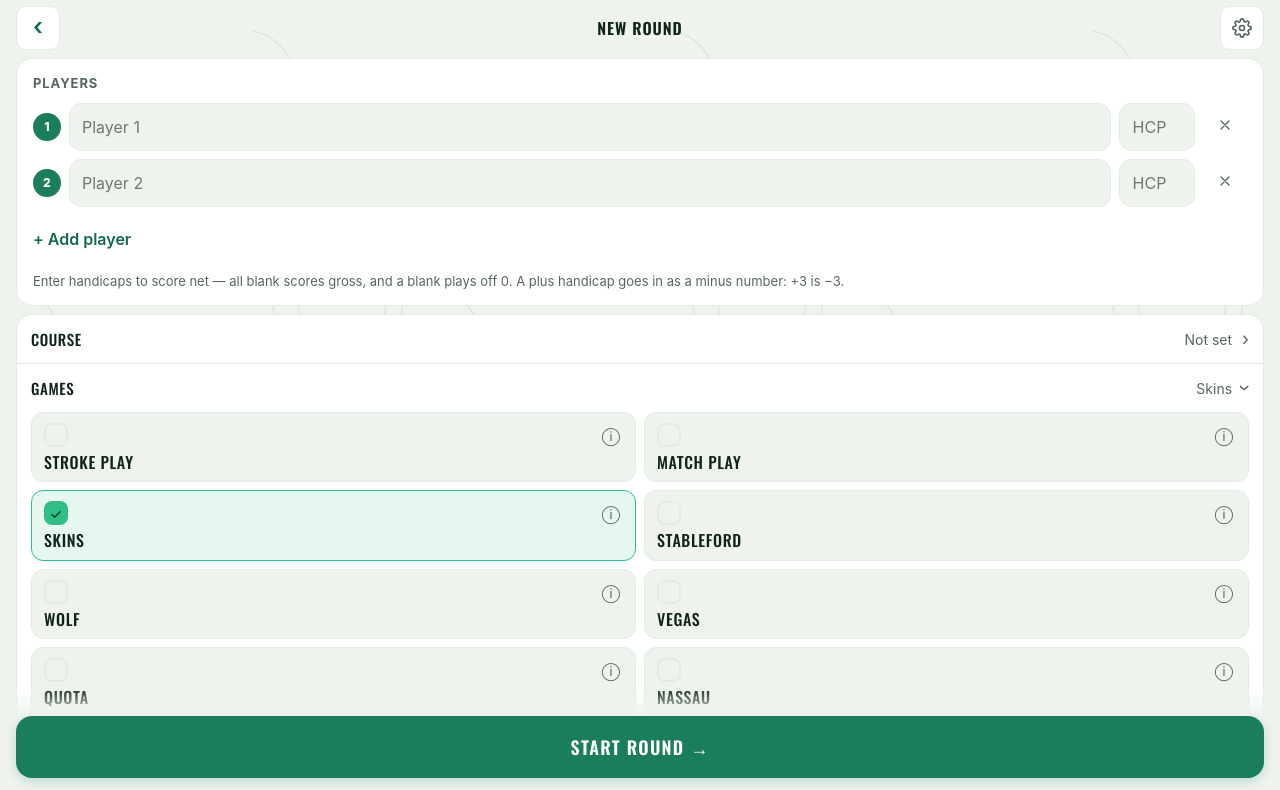
Test: a scorecard loaded from course search › opens the holes row rather than filling it in out of sight
Click the button with class "setup-row-head" showing "Course Not set ›" at (56, 339), box x1=17 y1=315 x2=1263 y2=363
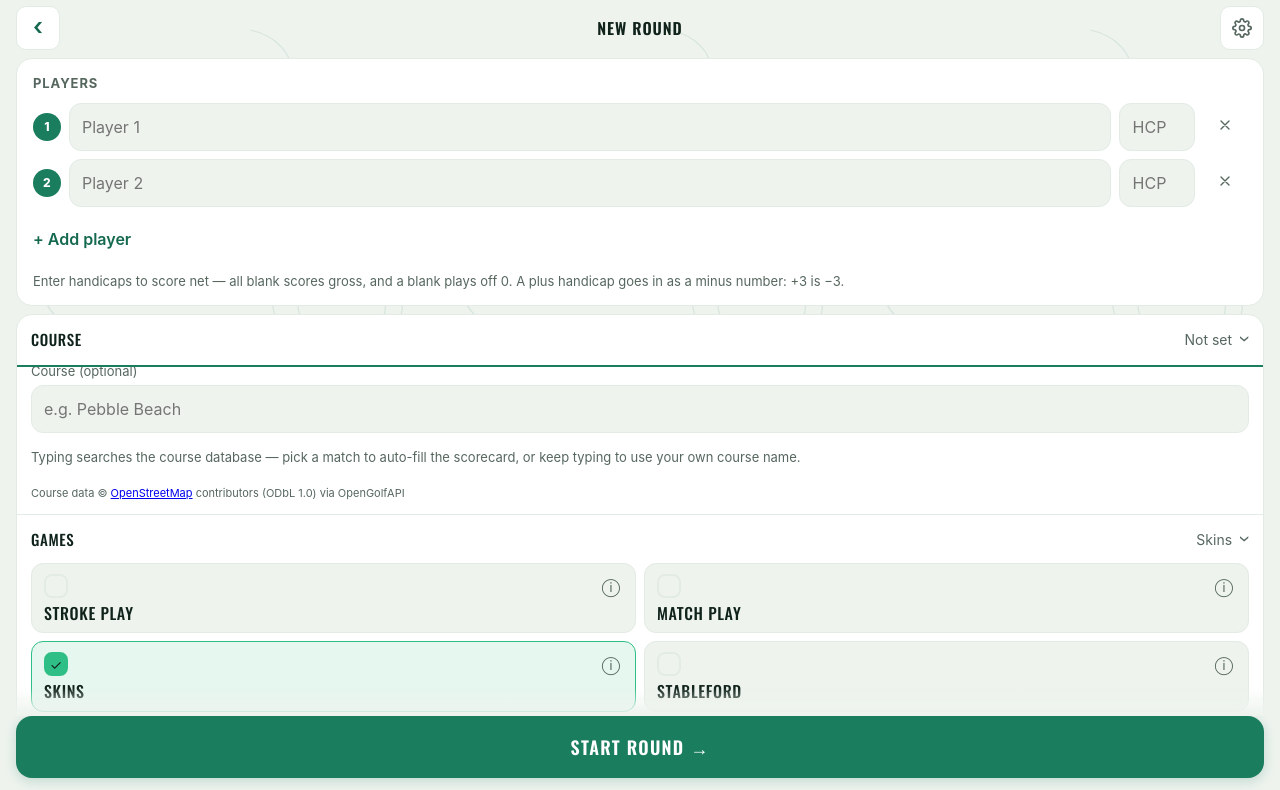
Type "Bramble" into the field labelled "Course (optional)" at (640, 409), box x1=31 y1=385 x2=1249 y2=433
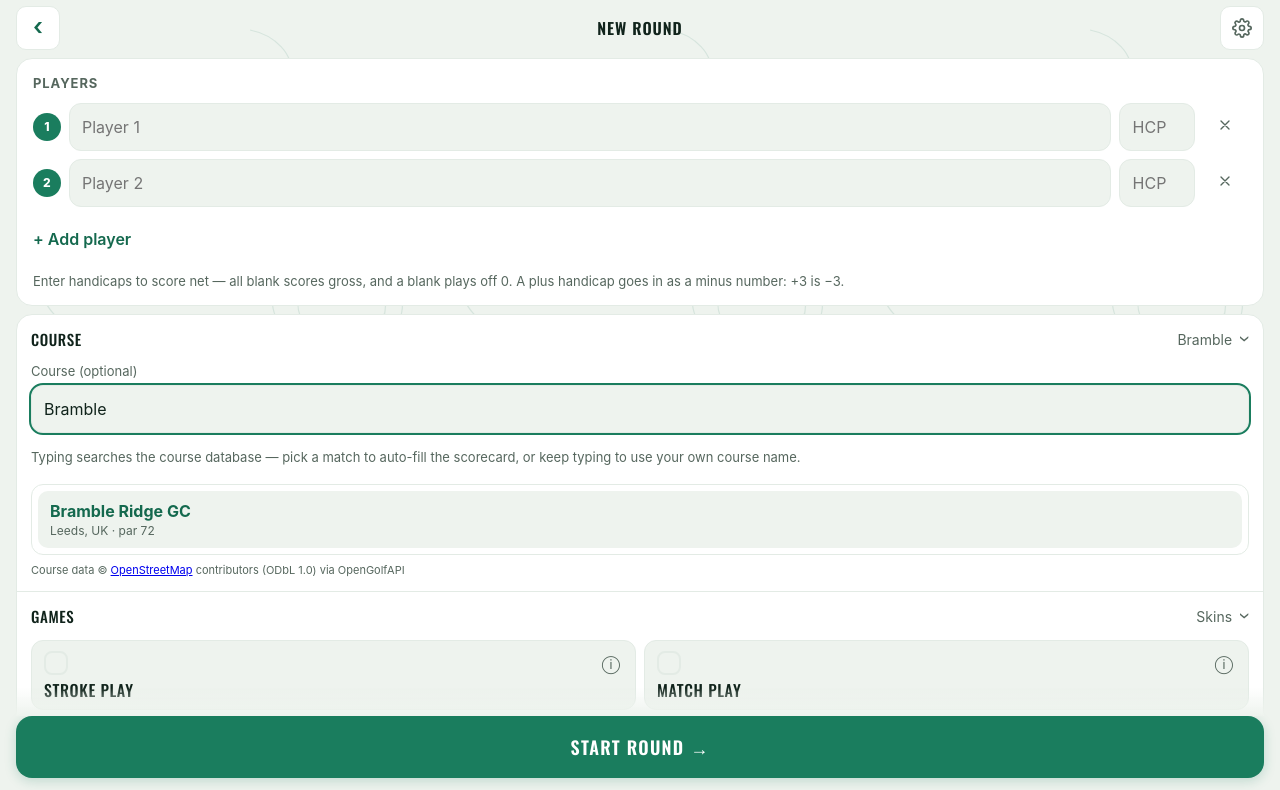
Click the text "Bramble Ridge GC" at (120, 511), box x1=50 y1=501 x2=191 y2=521
(page scrolled)
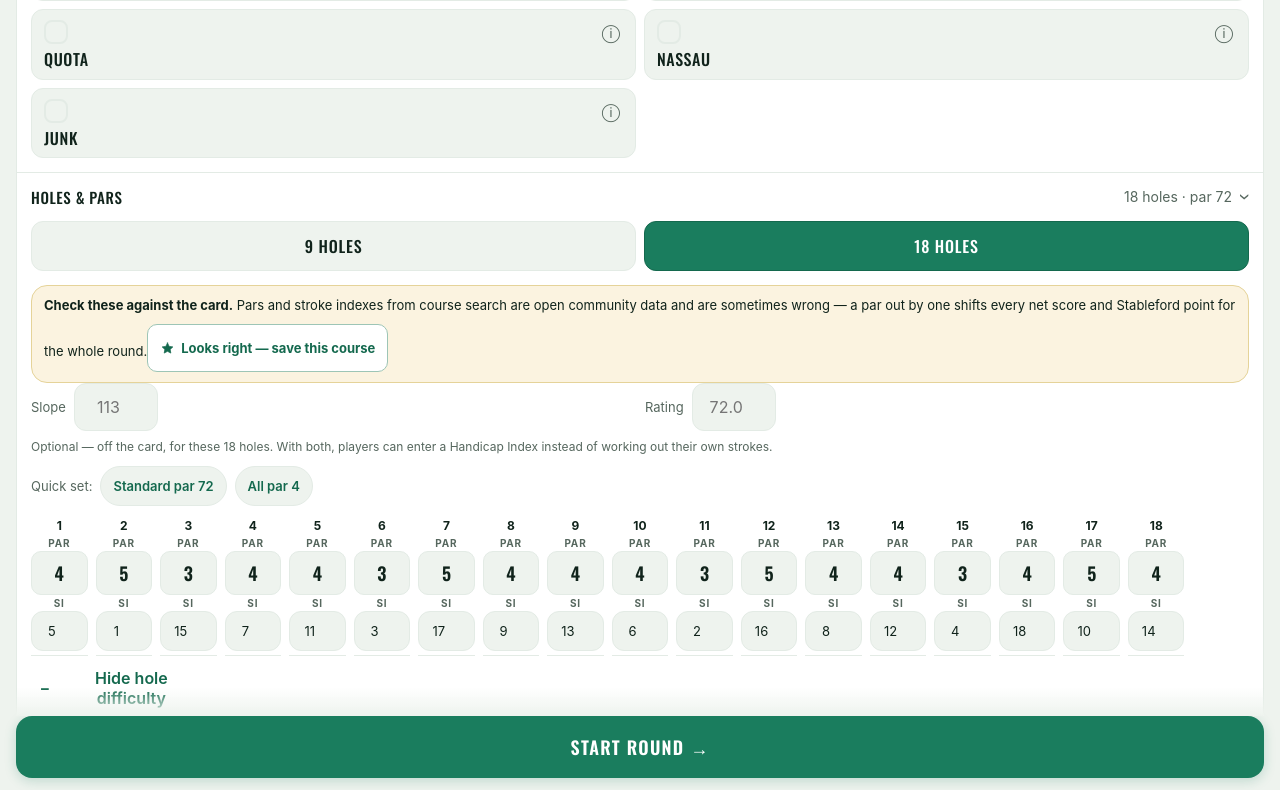
Expected: the message with class "check-note" is shown, x1=31 y1=285 x2=1249 y2=383
